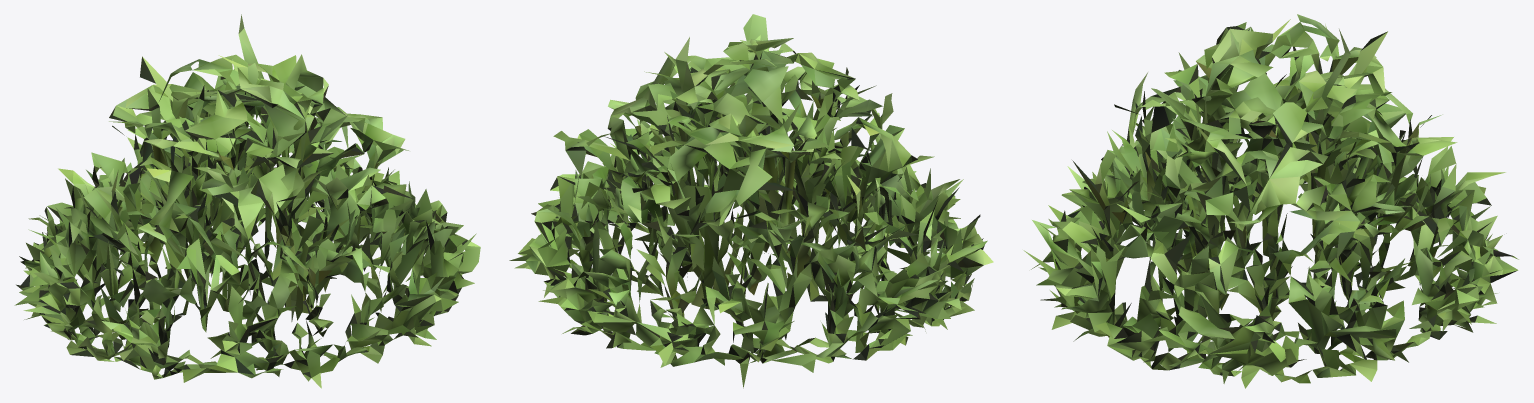
The model's file is BushSpiky.glb.
The picture shows the model from 3 angles, left to right: view 1: azimuth 30°, elevation 25°; view 2: azimuth 150°, elevation 25°; view 3: azimuth 270°, elevation 25°; orthographic projection. The views are drawn at different scales.
Parts seen in each view (by area): view 1: BushSpiky; view 2: BushSpiky; view 3: BushSpiky.
Boxes of the visible parts, bbox=[...] form: BushSpiky: bbox=[14, 14, 480, 388]; BushSpiky: bbox=[509, 14, 993, 388]; BushSpiky: bbox=[1023, 14, 1518, 388].
Size of the model in its own units: 1.76 by 1.06 by 1.68.
Materials: 1 (1 with a texture image).
